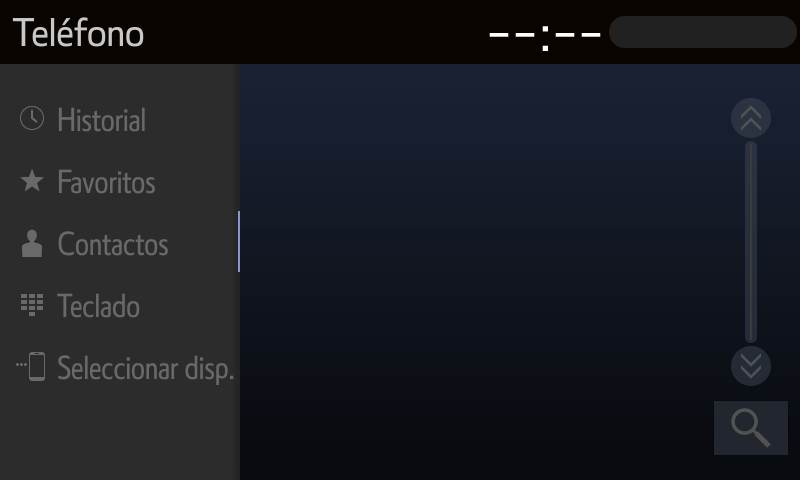untouchPart: (474, 11, 800, 51), (18, 222, 194, 275), (6, 351, 238, 390), (15, 167, 180, 208), (4, 285, 145, 330), (734, 142, 765, 340), (9, 11, 152, 51), (18, 99, 156, 139), (710, 398, 791, 461), (727, 343, 772, 389), (732, 102, 772, 135)
